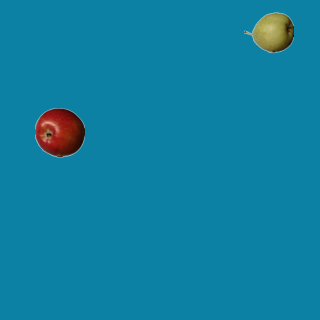Apple Braeburn: (34, 107, 84, 157)
Pear: (243, 7, 293, 57)
